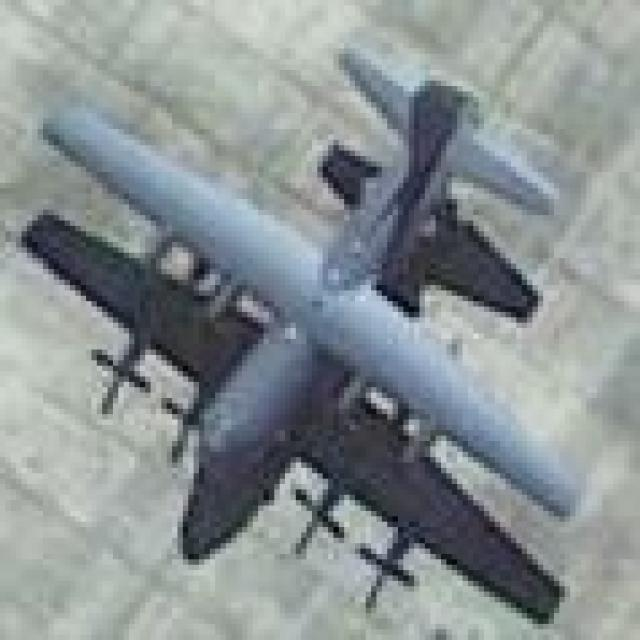C-130_TopDown: (20, 42, 588, 627)
